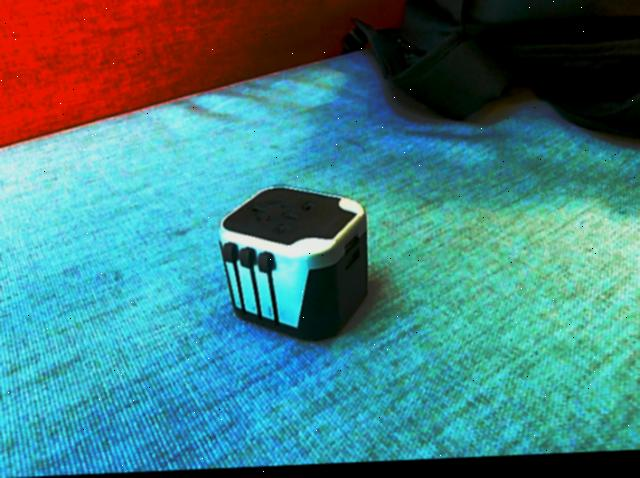adapter: (217, 184, 369, 347)
